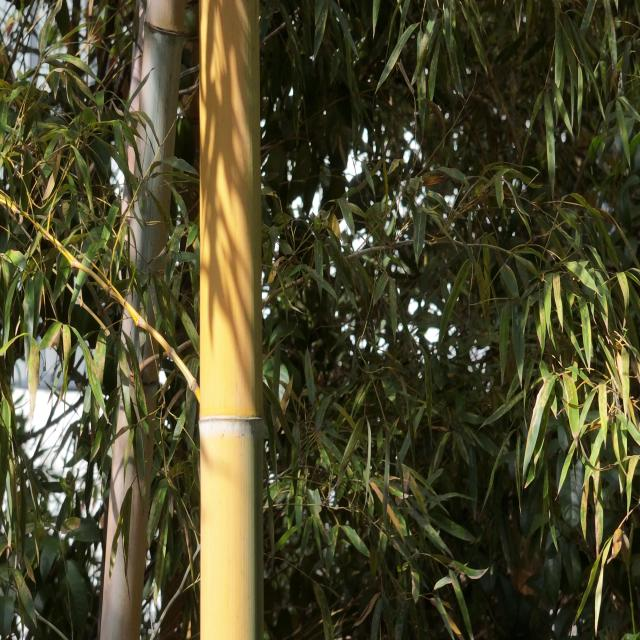Bamboo-shoots: (200, 0, 262, 640)
